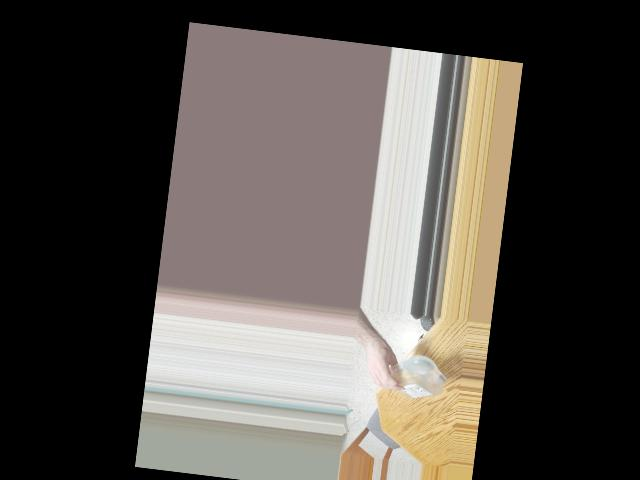cheese: (377, 356, 444, 399)
